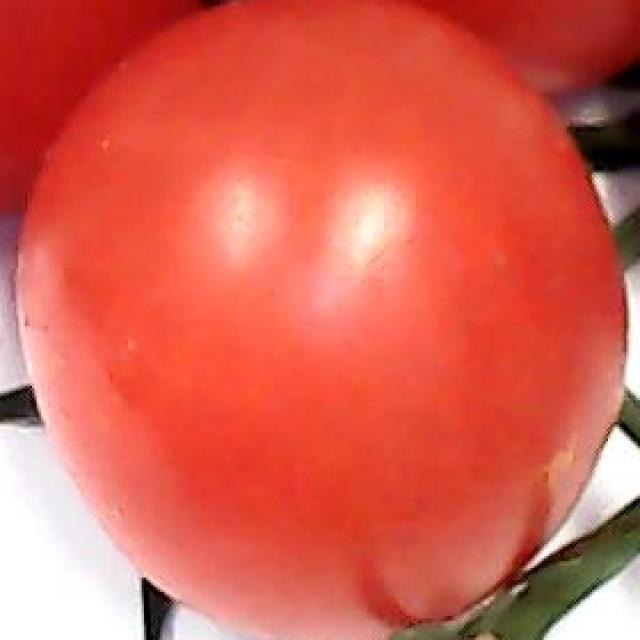Healthy: (35, 24, 640, 631)
